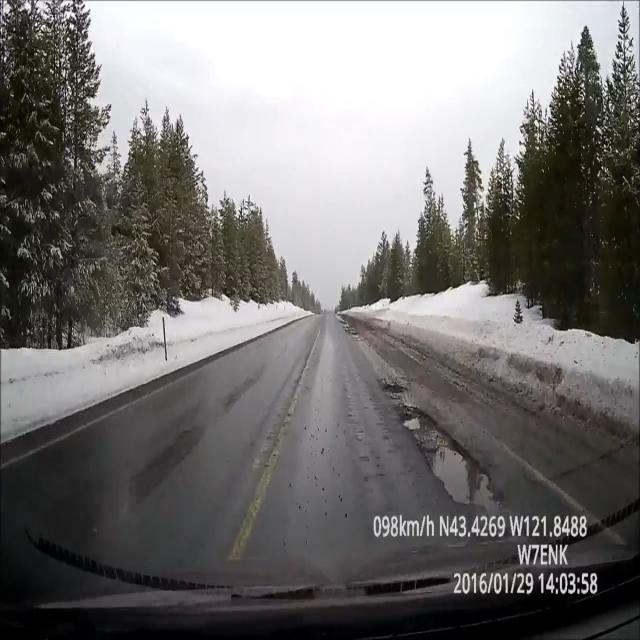Pothole: (379, 372, 510, 518)
